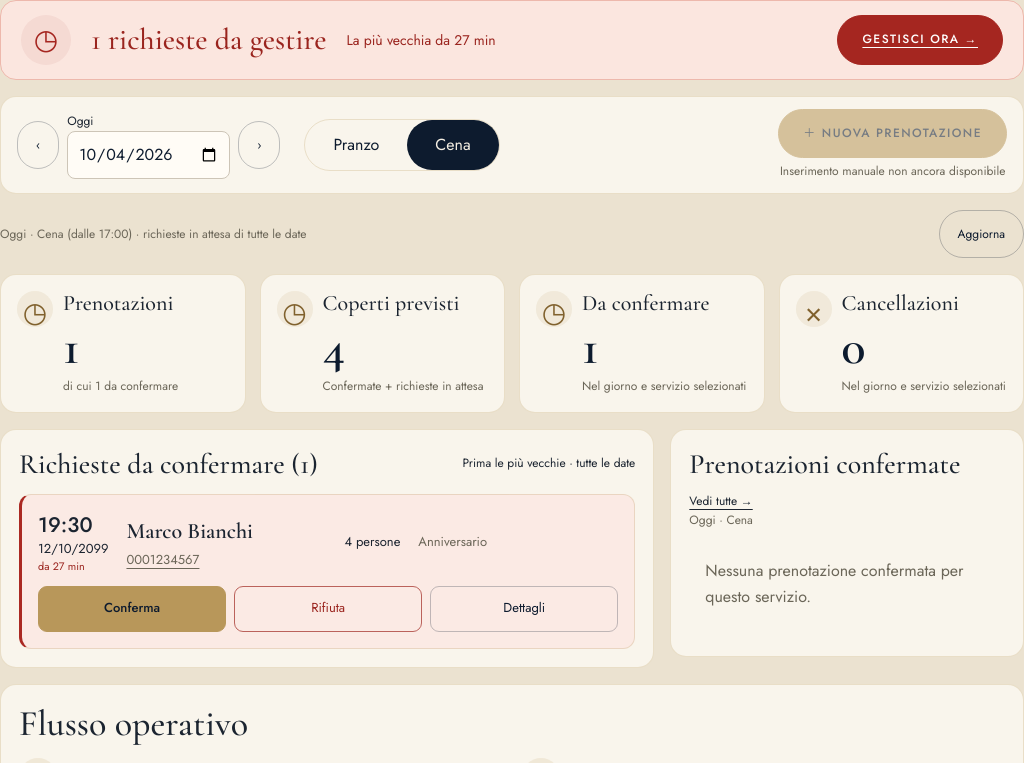
Scenario: mostra richieste di tutte le date e attende il salvataggio, bloccando doppi invii
Click the button "Conferma". click: (132, 609)
box: [38, 586, 226, 632]
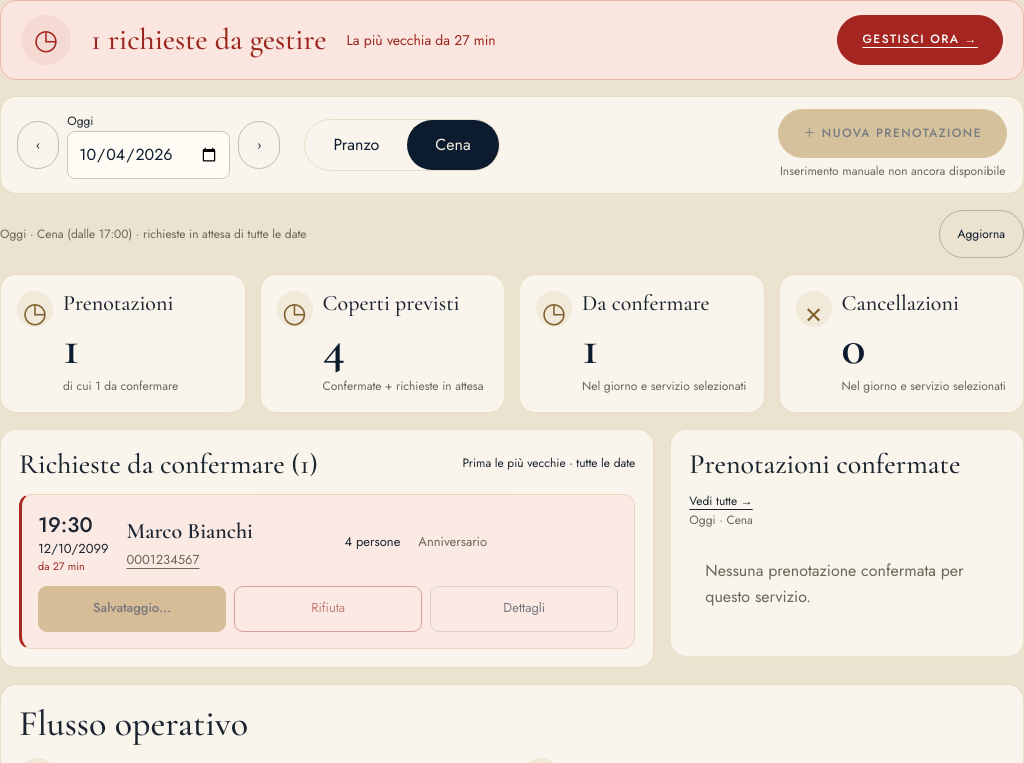
Click the button named "Conferma". click: (132, 609)
box: [38, 586, 226, 632]
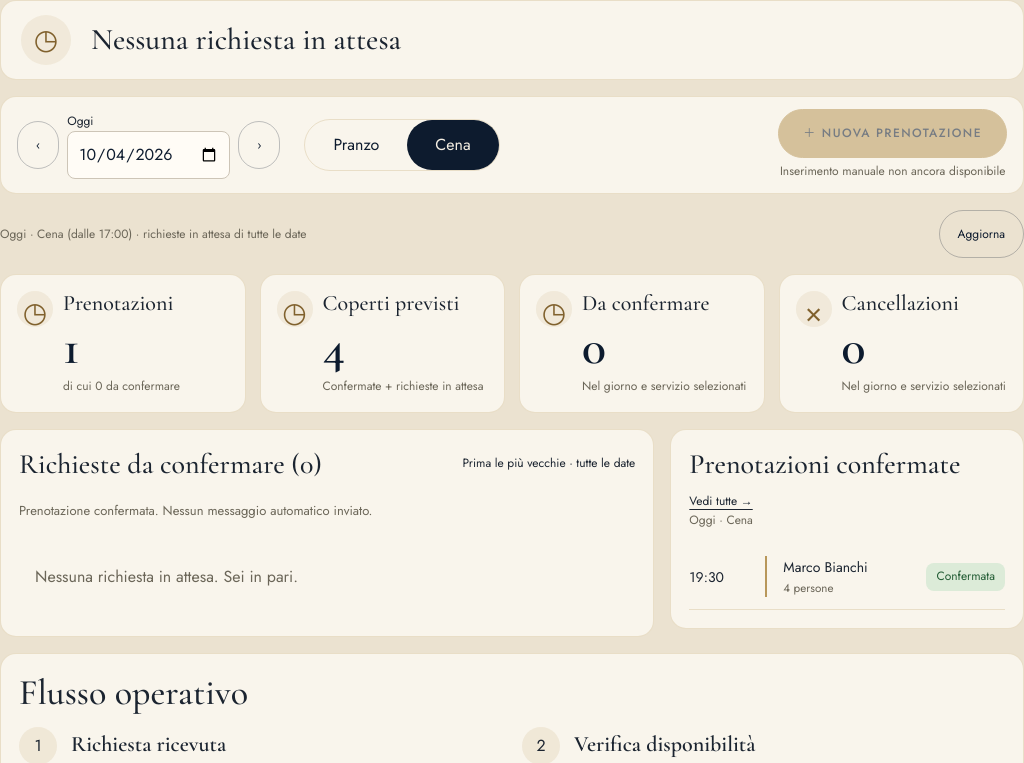
Result: the heading "Nessuna richiesta in attesa" is shown at [91, 23, 401, 57]
Result: the text "Marco Bianchi" is shown at [765, 556, 910, 598]
